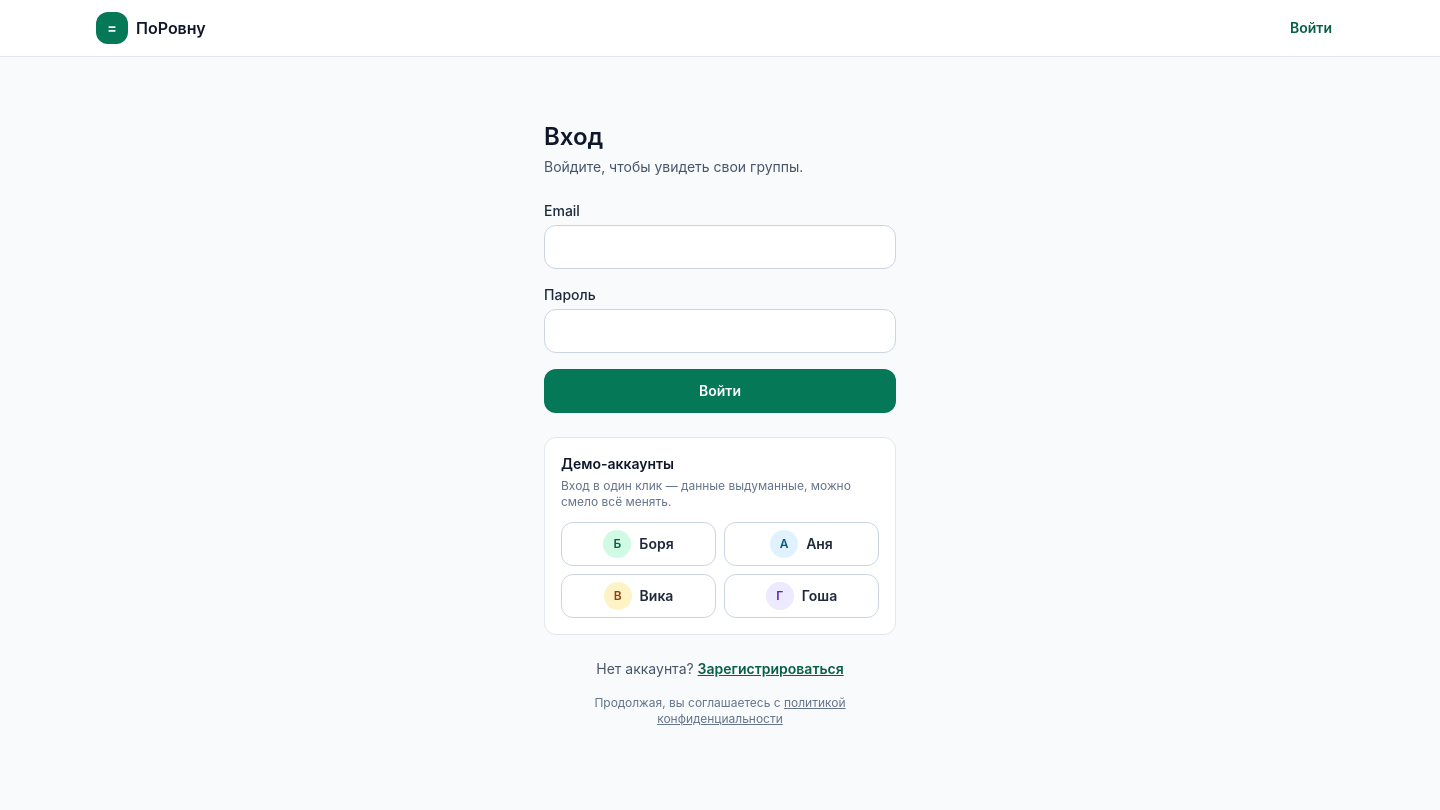
Test: вход, регистрация и защищённые маршруты (US-01, FR-1.1, FR-1.2) › параметр next не уводит на чужой сайт (защита от open redirect)
This screenshot has width=1440, height=810.
Type "borya@poravnu.demo" into the field labelled "Email" at (720, 247), box [544,225,896,269]
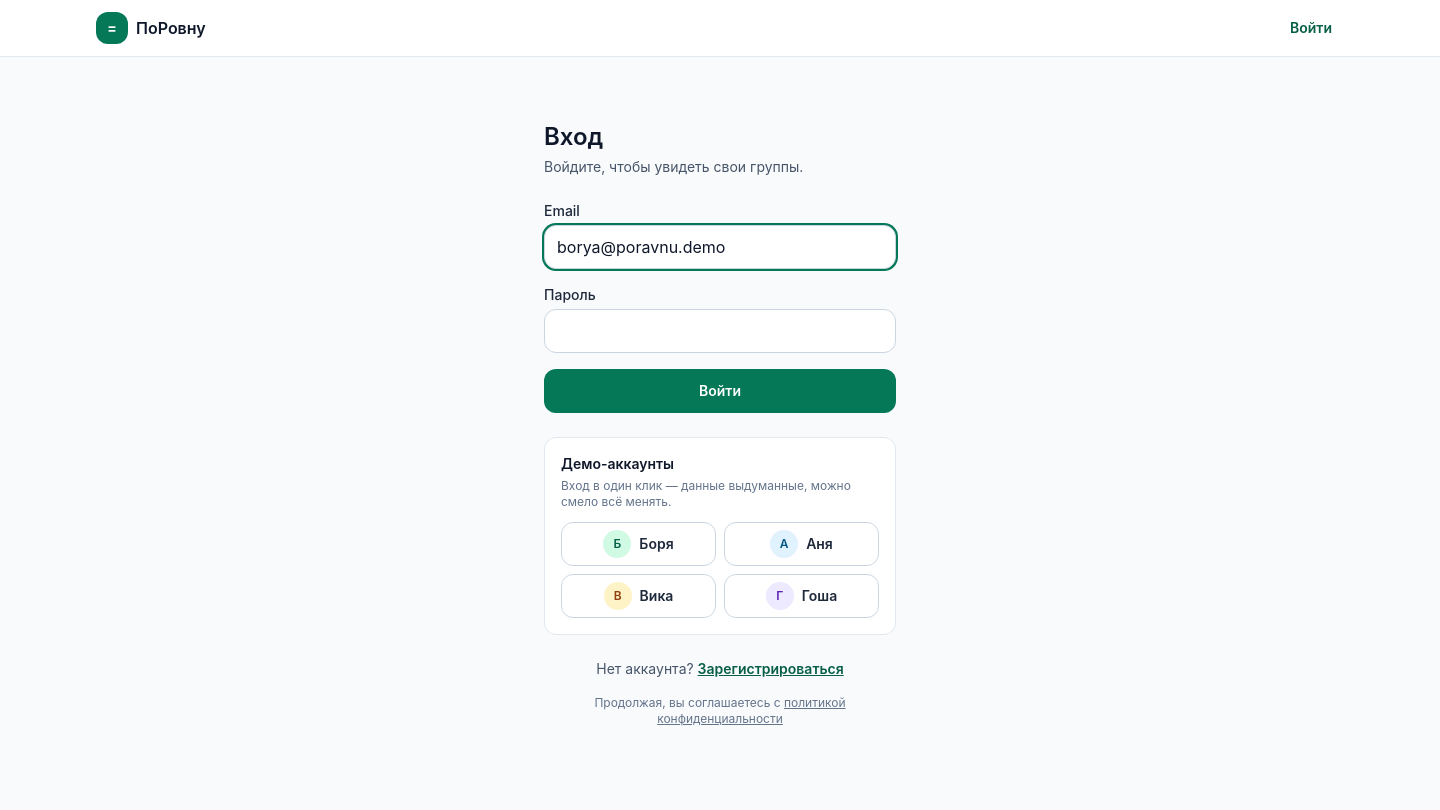
Type "demo-pass" into the password field labelled "Пароль" at (720, 331), box [544,309,896,353]
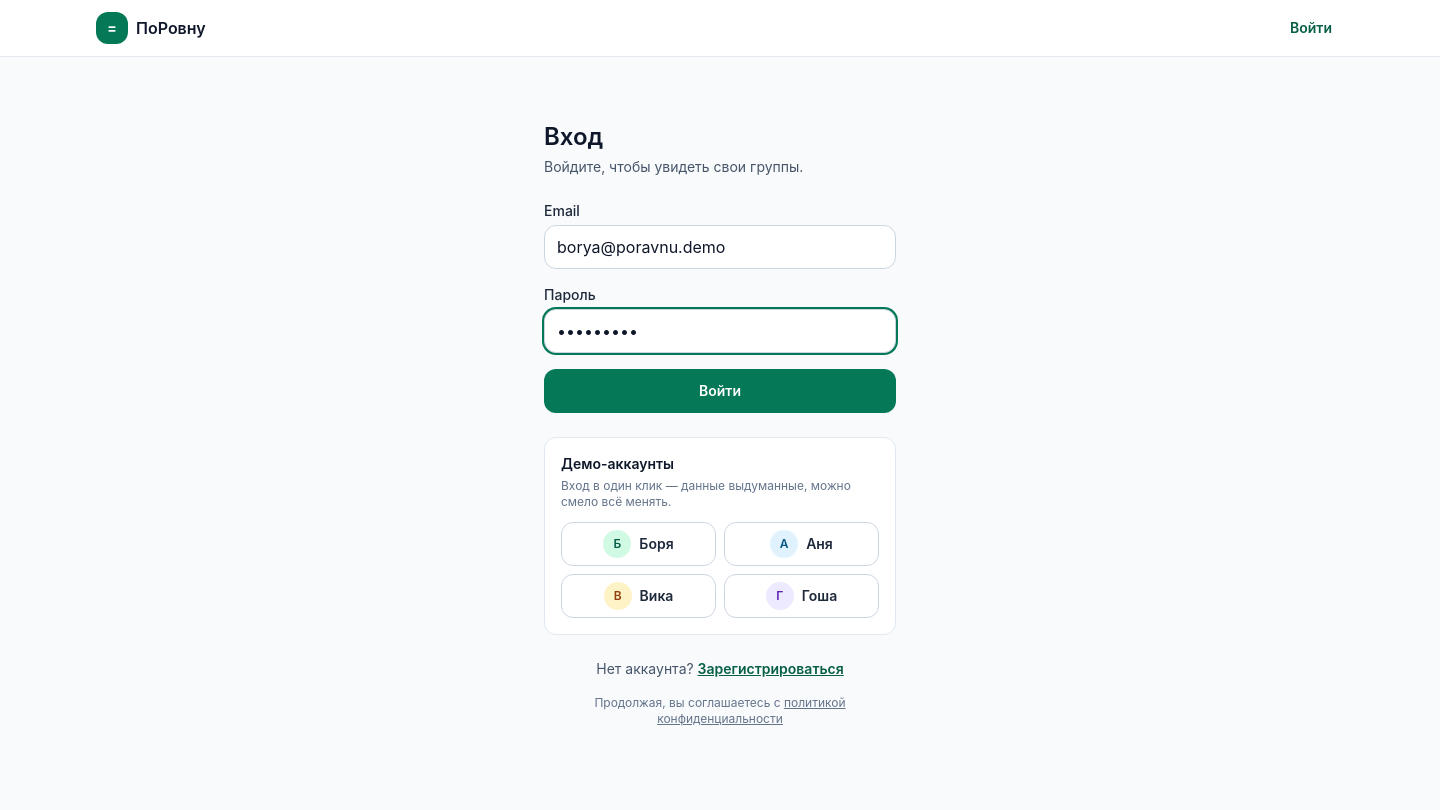
Click the button "Войти" at (720, 391), box [544,369,896,413]
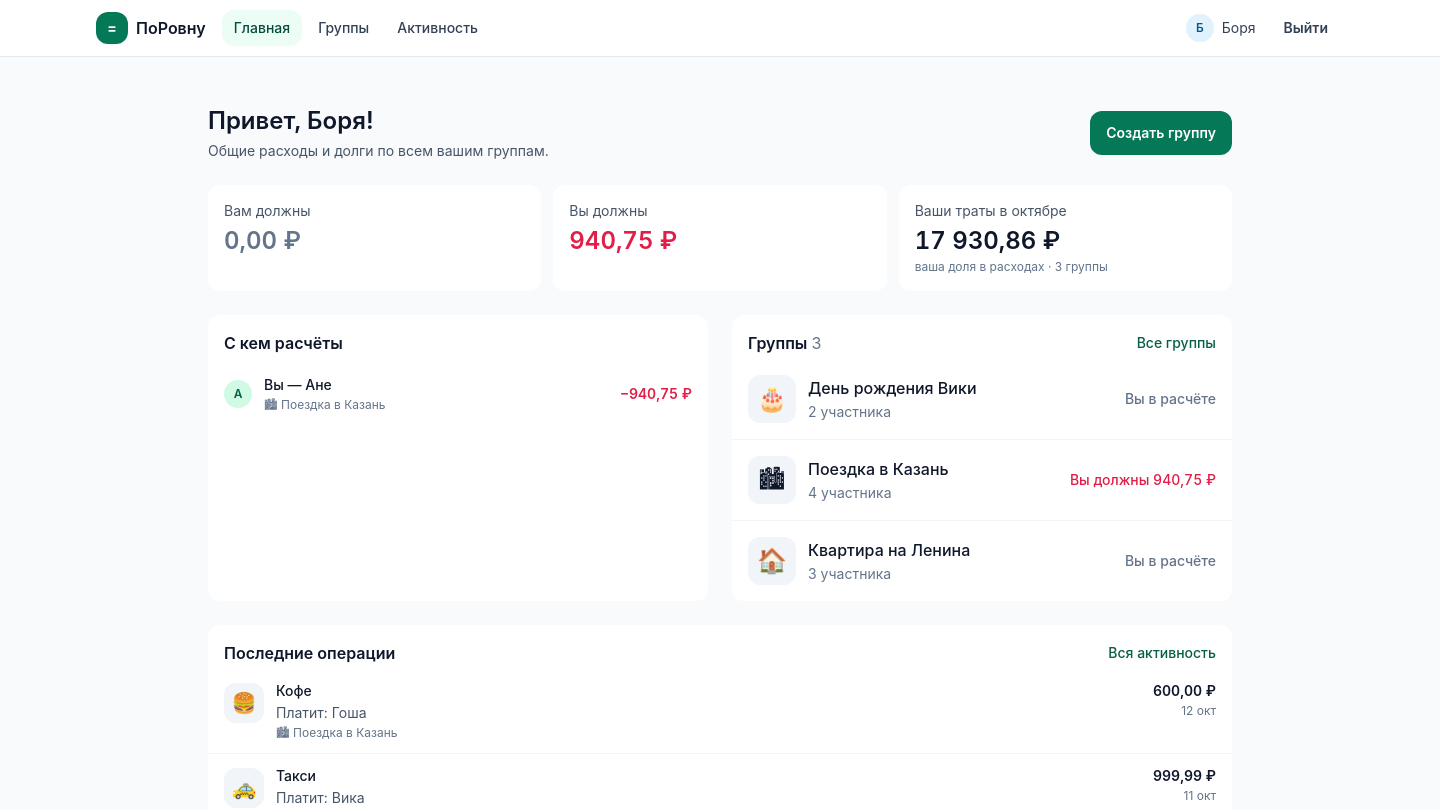
Check: the heading "Привет, Боря!" is shown, box [208,106,374,135]
